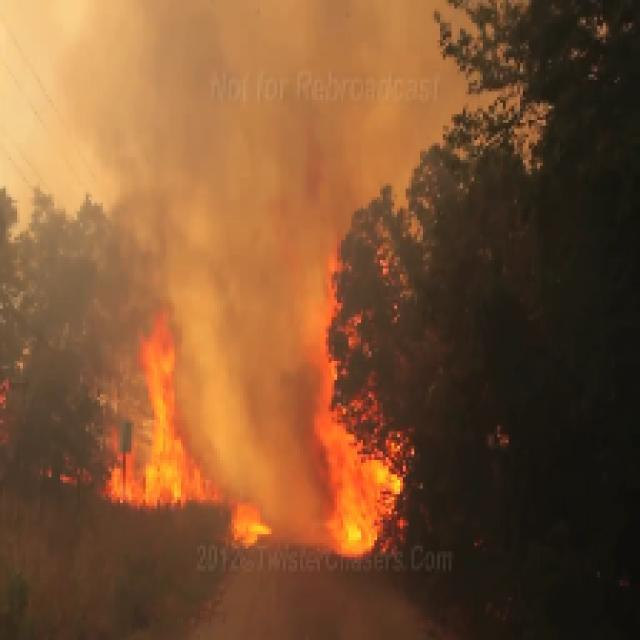Fire: (114, 283, 469, 586)
Smoke: (3, 0, 640, 257)
